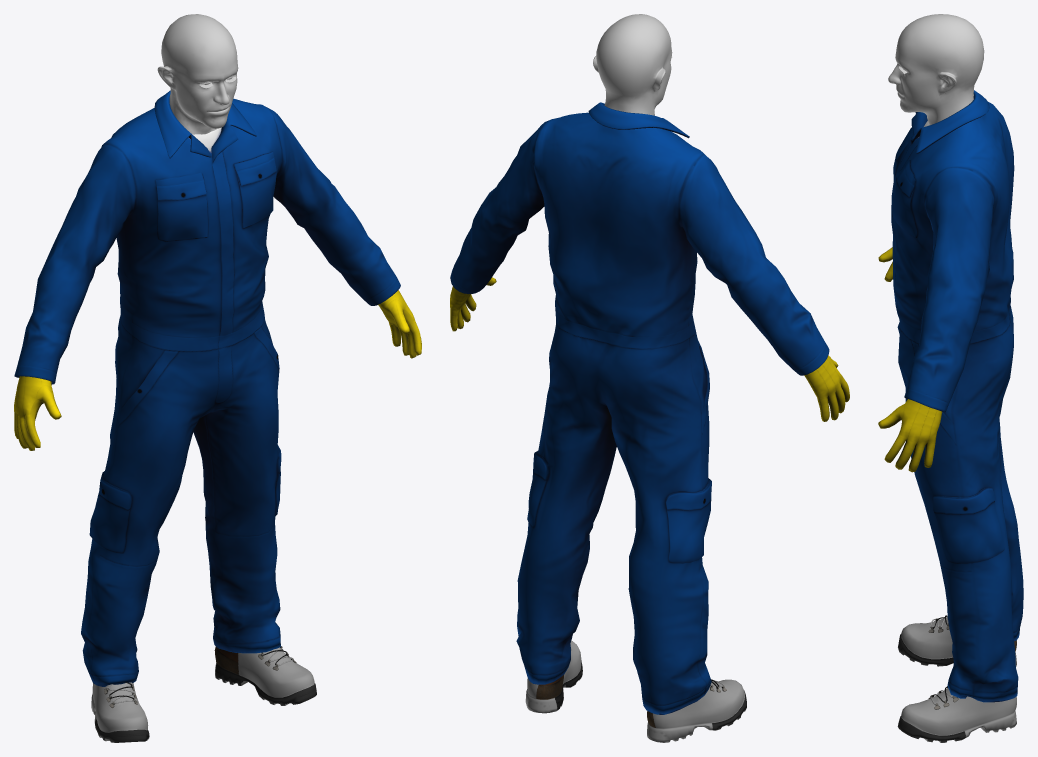
File: Worker.fbx
3 renders of one model, left to right at view 1: azimuth 30°, elevation 25°; view 2: azimuth 150°, elevation 25°; view 3: azimuth 270°, elevation 25°, orthographic. The views are drawn at different scales.
Visible parts, largest first — view 1: Worker; view 2: Worker; view 3: Worker.
Part boxes in pixels (x1=…): Worker: x1=14, y1=14, x2=421, y2=742; Worker: x1=450, y1=14, x2=849, y2=742; Worker: x1=878, y1=14, x2=1023, y2=742.
Bounding box in the file's own units: 42.41 × 71.42 × 13.85.
